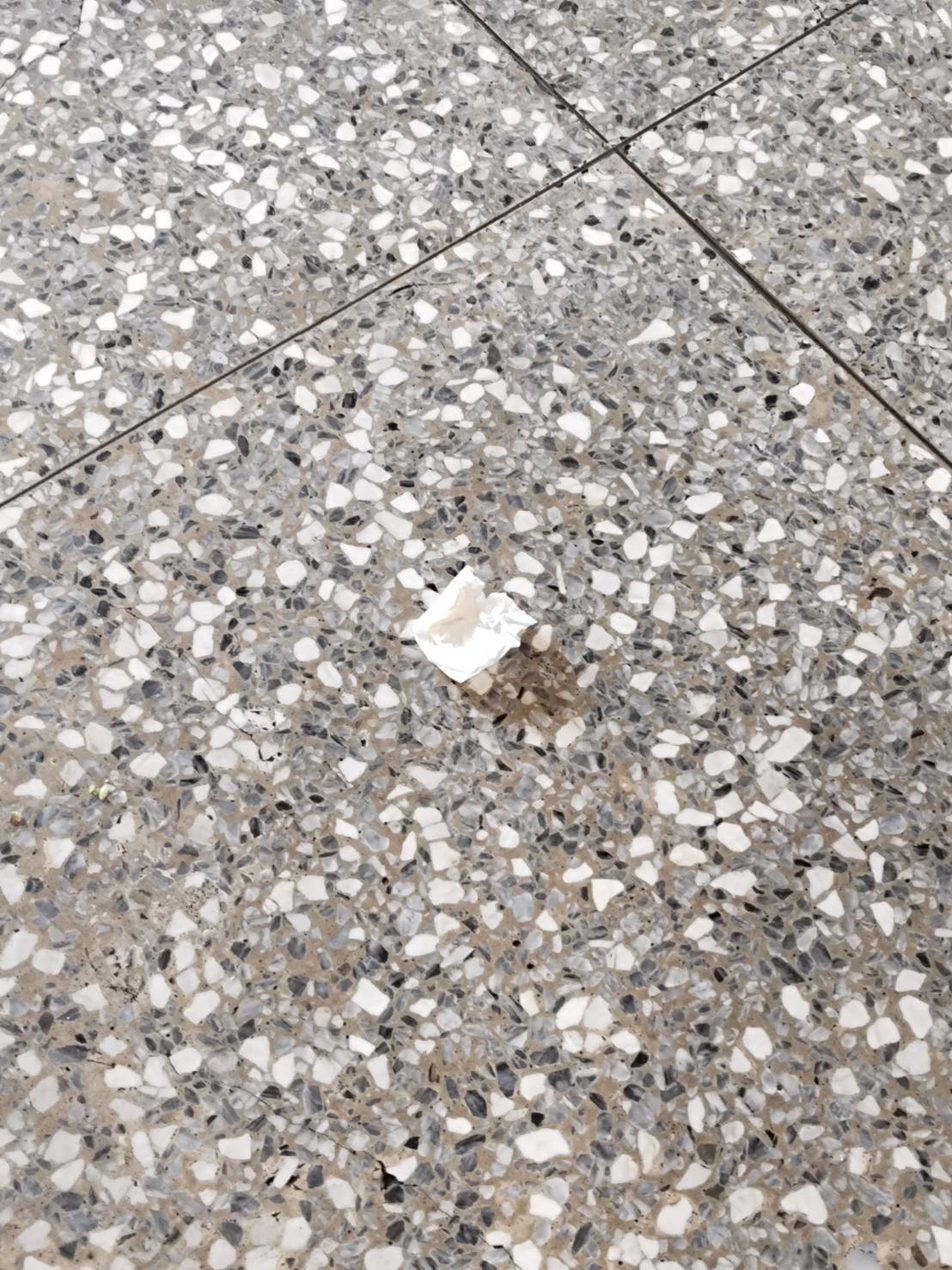General waste: (344, 553, 590, 748)
